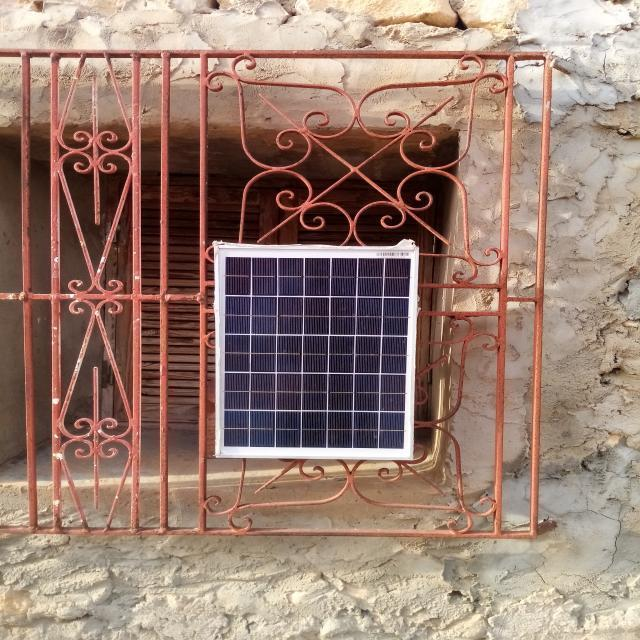Normal Solar Panel: (216, 245, 418, 458)
